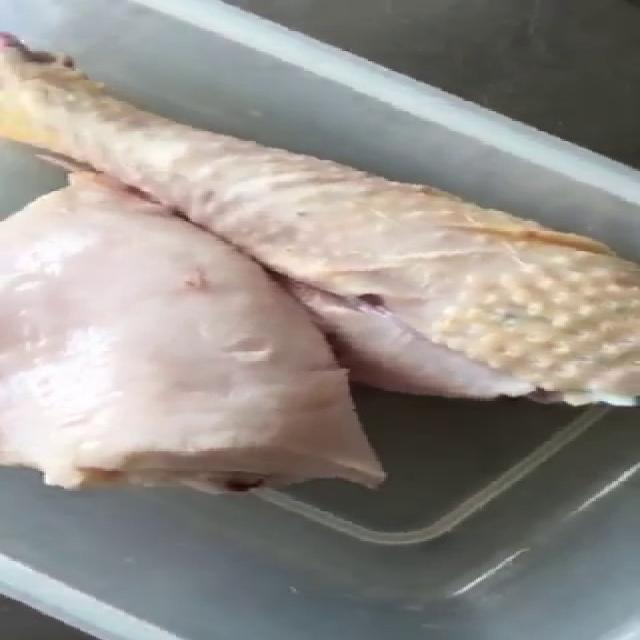chicken: (0, 30, 639, 406), (0, 155, 388, 494)
